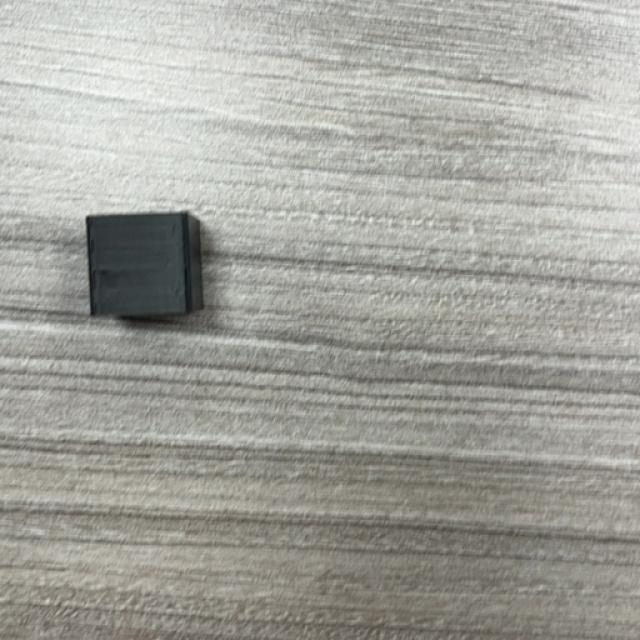Negro: (85, 212, 205, 321)
